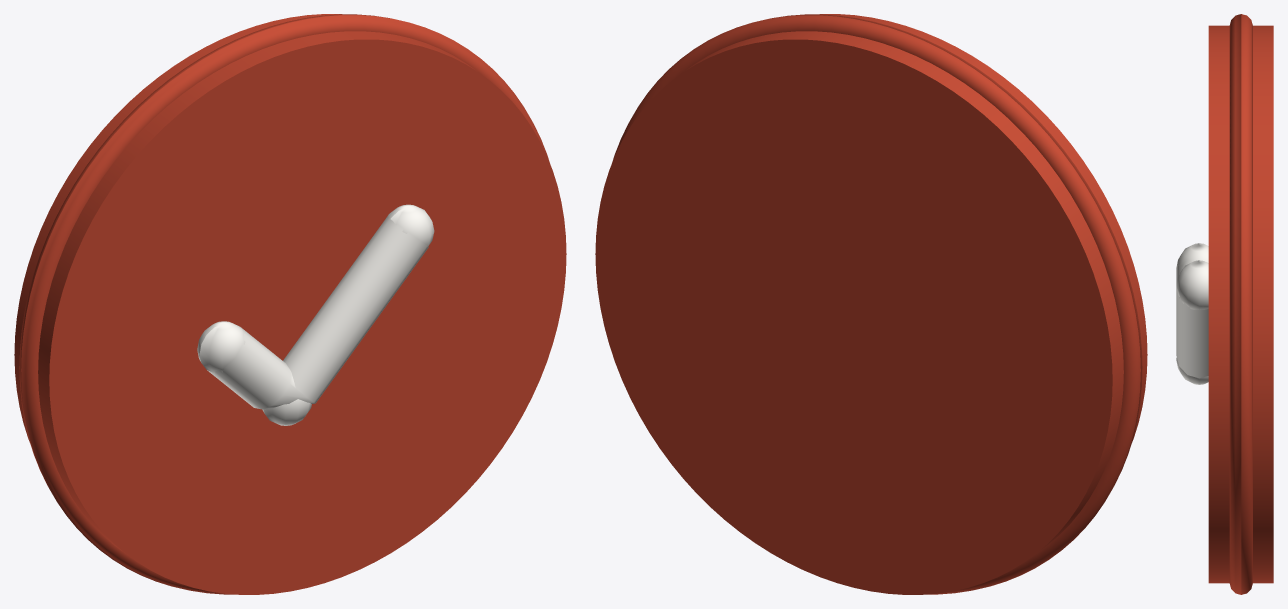
Rendered from check-badge.glb.
The picture shows the model from 3 angles, left to right: view 1: azimuth 30°, elevation 25°; view 2: azimuth 150°, elevation 25°; view 3: azimuth 270°, elevation 25°; orthographic projection. The views are drawn at different scales.
Visible parts, largest first — view 1: disc, rim, check-0, check-1, check-3, check-2; view 2: disc, rim; view 3: disc, rim, check-0, check-3, check-1, check-2.
Boxes of the visible parts, x1,y1,x2,y2 form: disc: (14,14,566,594); rim: (19,14,549,594); check-0: (207,218,428,409); check-1: (197,321,245,373); check-3: (386,204,434,248); check-2: (262,399,311,425); disc: (595,14,1147,594); rim: (612,14,1142,594); disc: (1208,25,1273,583); rim: (1229,14,1252,594); check-0: (1176,260,1208,378); check-3: (1176,260,1208,309); check-1: (1176,243,1208,267); check-2: (1176,357,1208,384).
Bounding box in the file's own units: 1.25 × 1.25 × 0.21.
